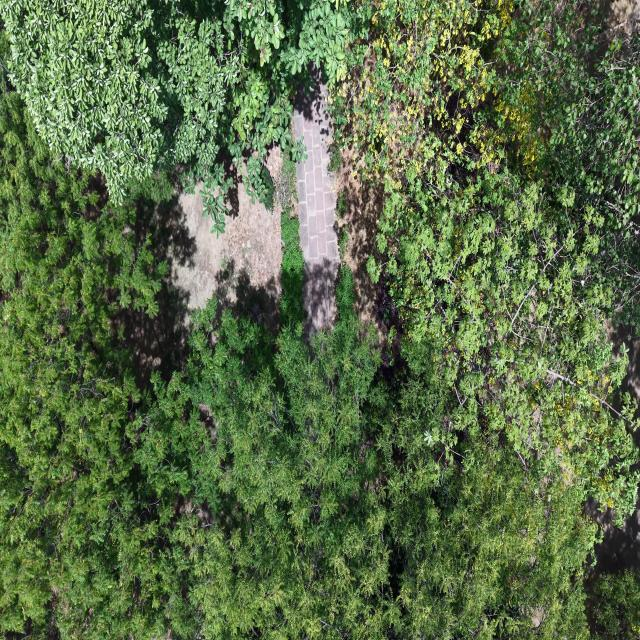DRY_AREA: (114, 182, 281, 386), (117, 181, 282, 383), (294, 67, 398, 362), (294, 73, 398, 361), (294, 66, 396, 346), (294, 74, 397, 347), (295, 72, 396, 342), (294, 66, 386, 336), (173, 184, 281, 324), (336, 150, 401, 367), (174, 184, 281, 310), (337, 154, 400, 365), (336, 149, 401, 352), (294, 68, 339, 335), (337, 151, 386, 332), (294, 80, 338, 264), (586, 494, 639, 571), (586, 495, 639, 571), (607, 0, 639, 33)
PATHWAYS: (294, 68, 339, 335)
VEGETATION_TREE: (0, 0, 639, 639), (20, 270, 595, 638), (140, 269, 595, 638), (333, 0, 639, 515), (335, 0, 639, 513), (0, 93, 172, 636), (0, 0, 351, 232), (588, 571, 639, 639)
